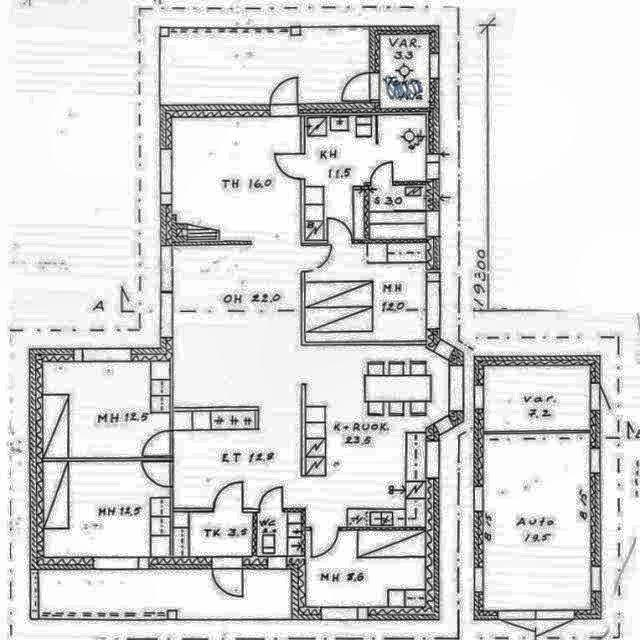room: (484, 433, 590, 610), (305, 116, 426, 239), (43, 462, 170, 557), (43, 362, 169, 457), (305, 244, 427, 341), (306, 531, 425, 606), (483, 365, 591, 431), (380, 34, 429, 108), (173, 512, 252, 557), (370, 185, 425, 239), (257, 513, 301, 556)
